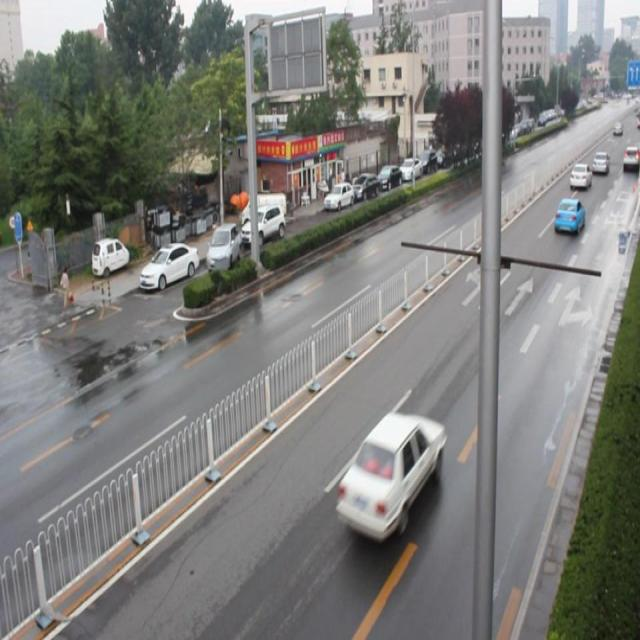car: (336, 411, 446, 543), (553, 194, 583, 235)
